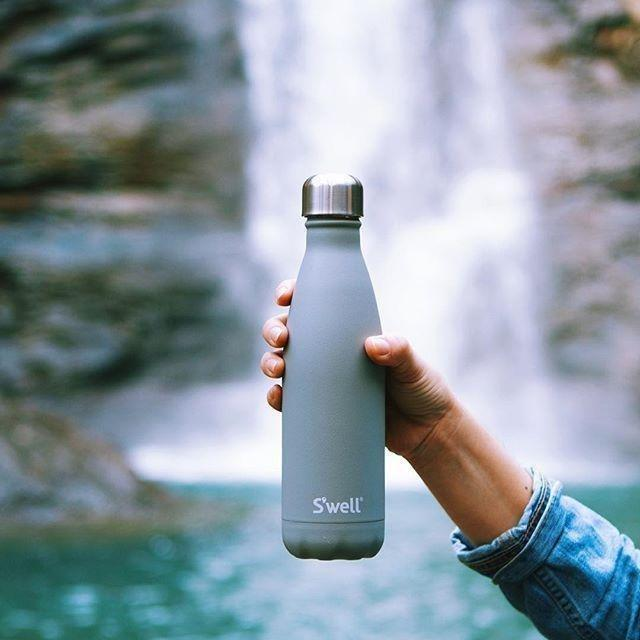gym bottle: (276, 171, 390, 563)
